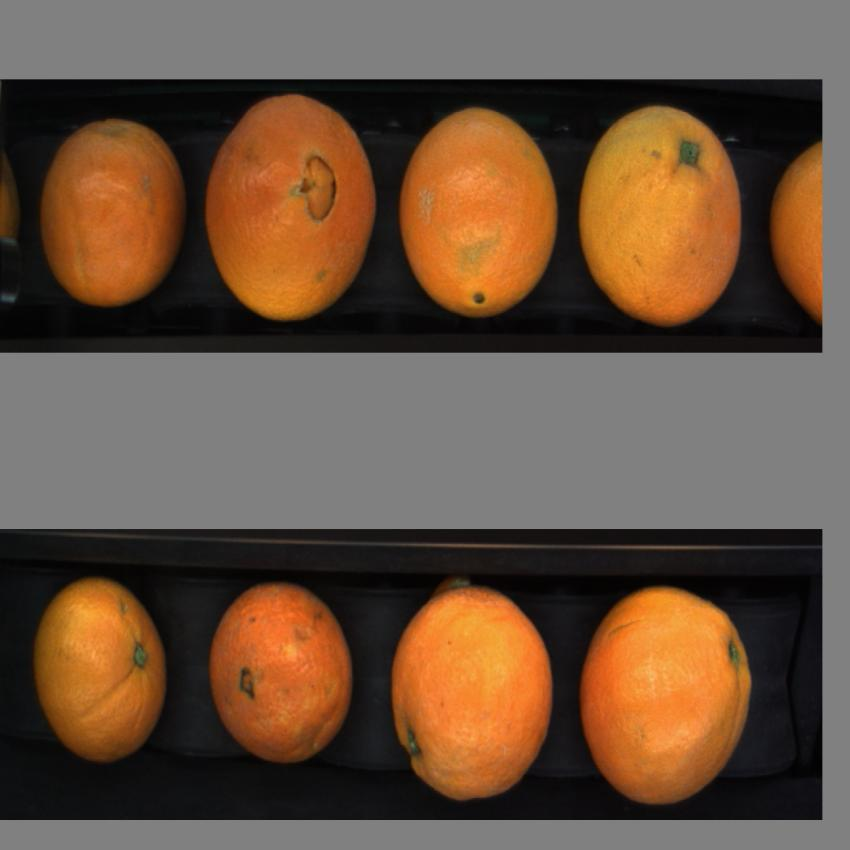Buen estado: (202, 91, 384, 325), (577, 577, 757, 809), (396, 99, 566, 324), (579, 96, 743, 326), (389, 581, 559, 801), (35, 111, 192, 312), (33, 574, 167, 771), (765, 126, 823, 321)
Mal estado: (206, 580, 353, 767)
